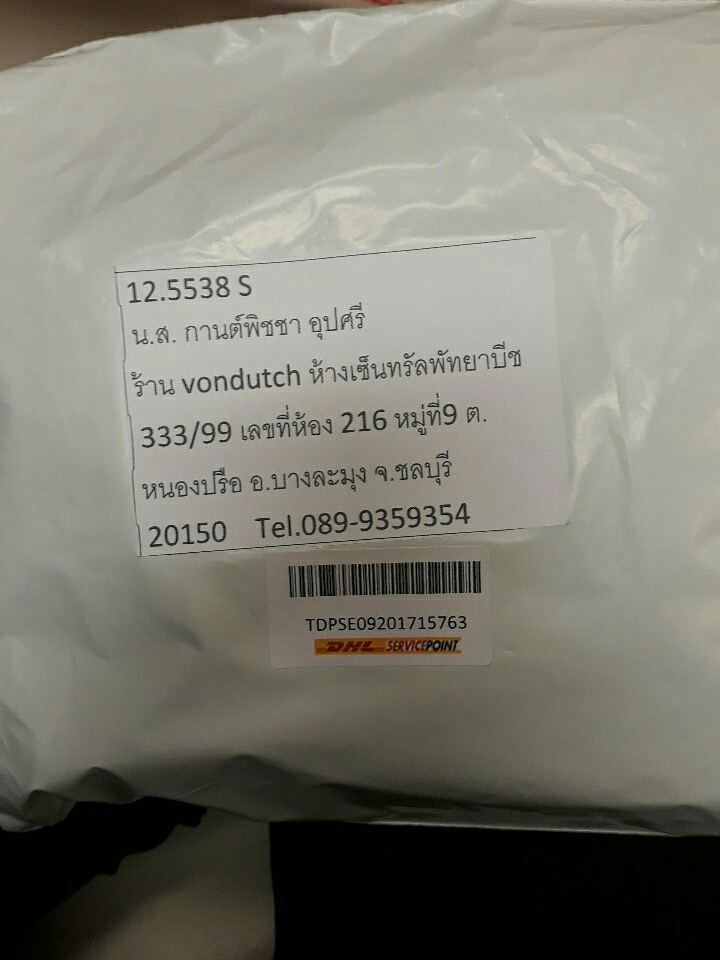ba: (258, 540, 514, 678)
txt: (120, 297, 533, 552)
